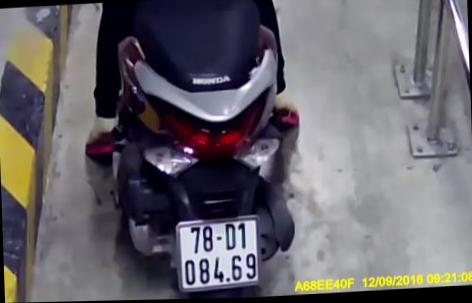LP: (176, 218, 262, 289)
